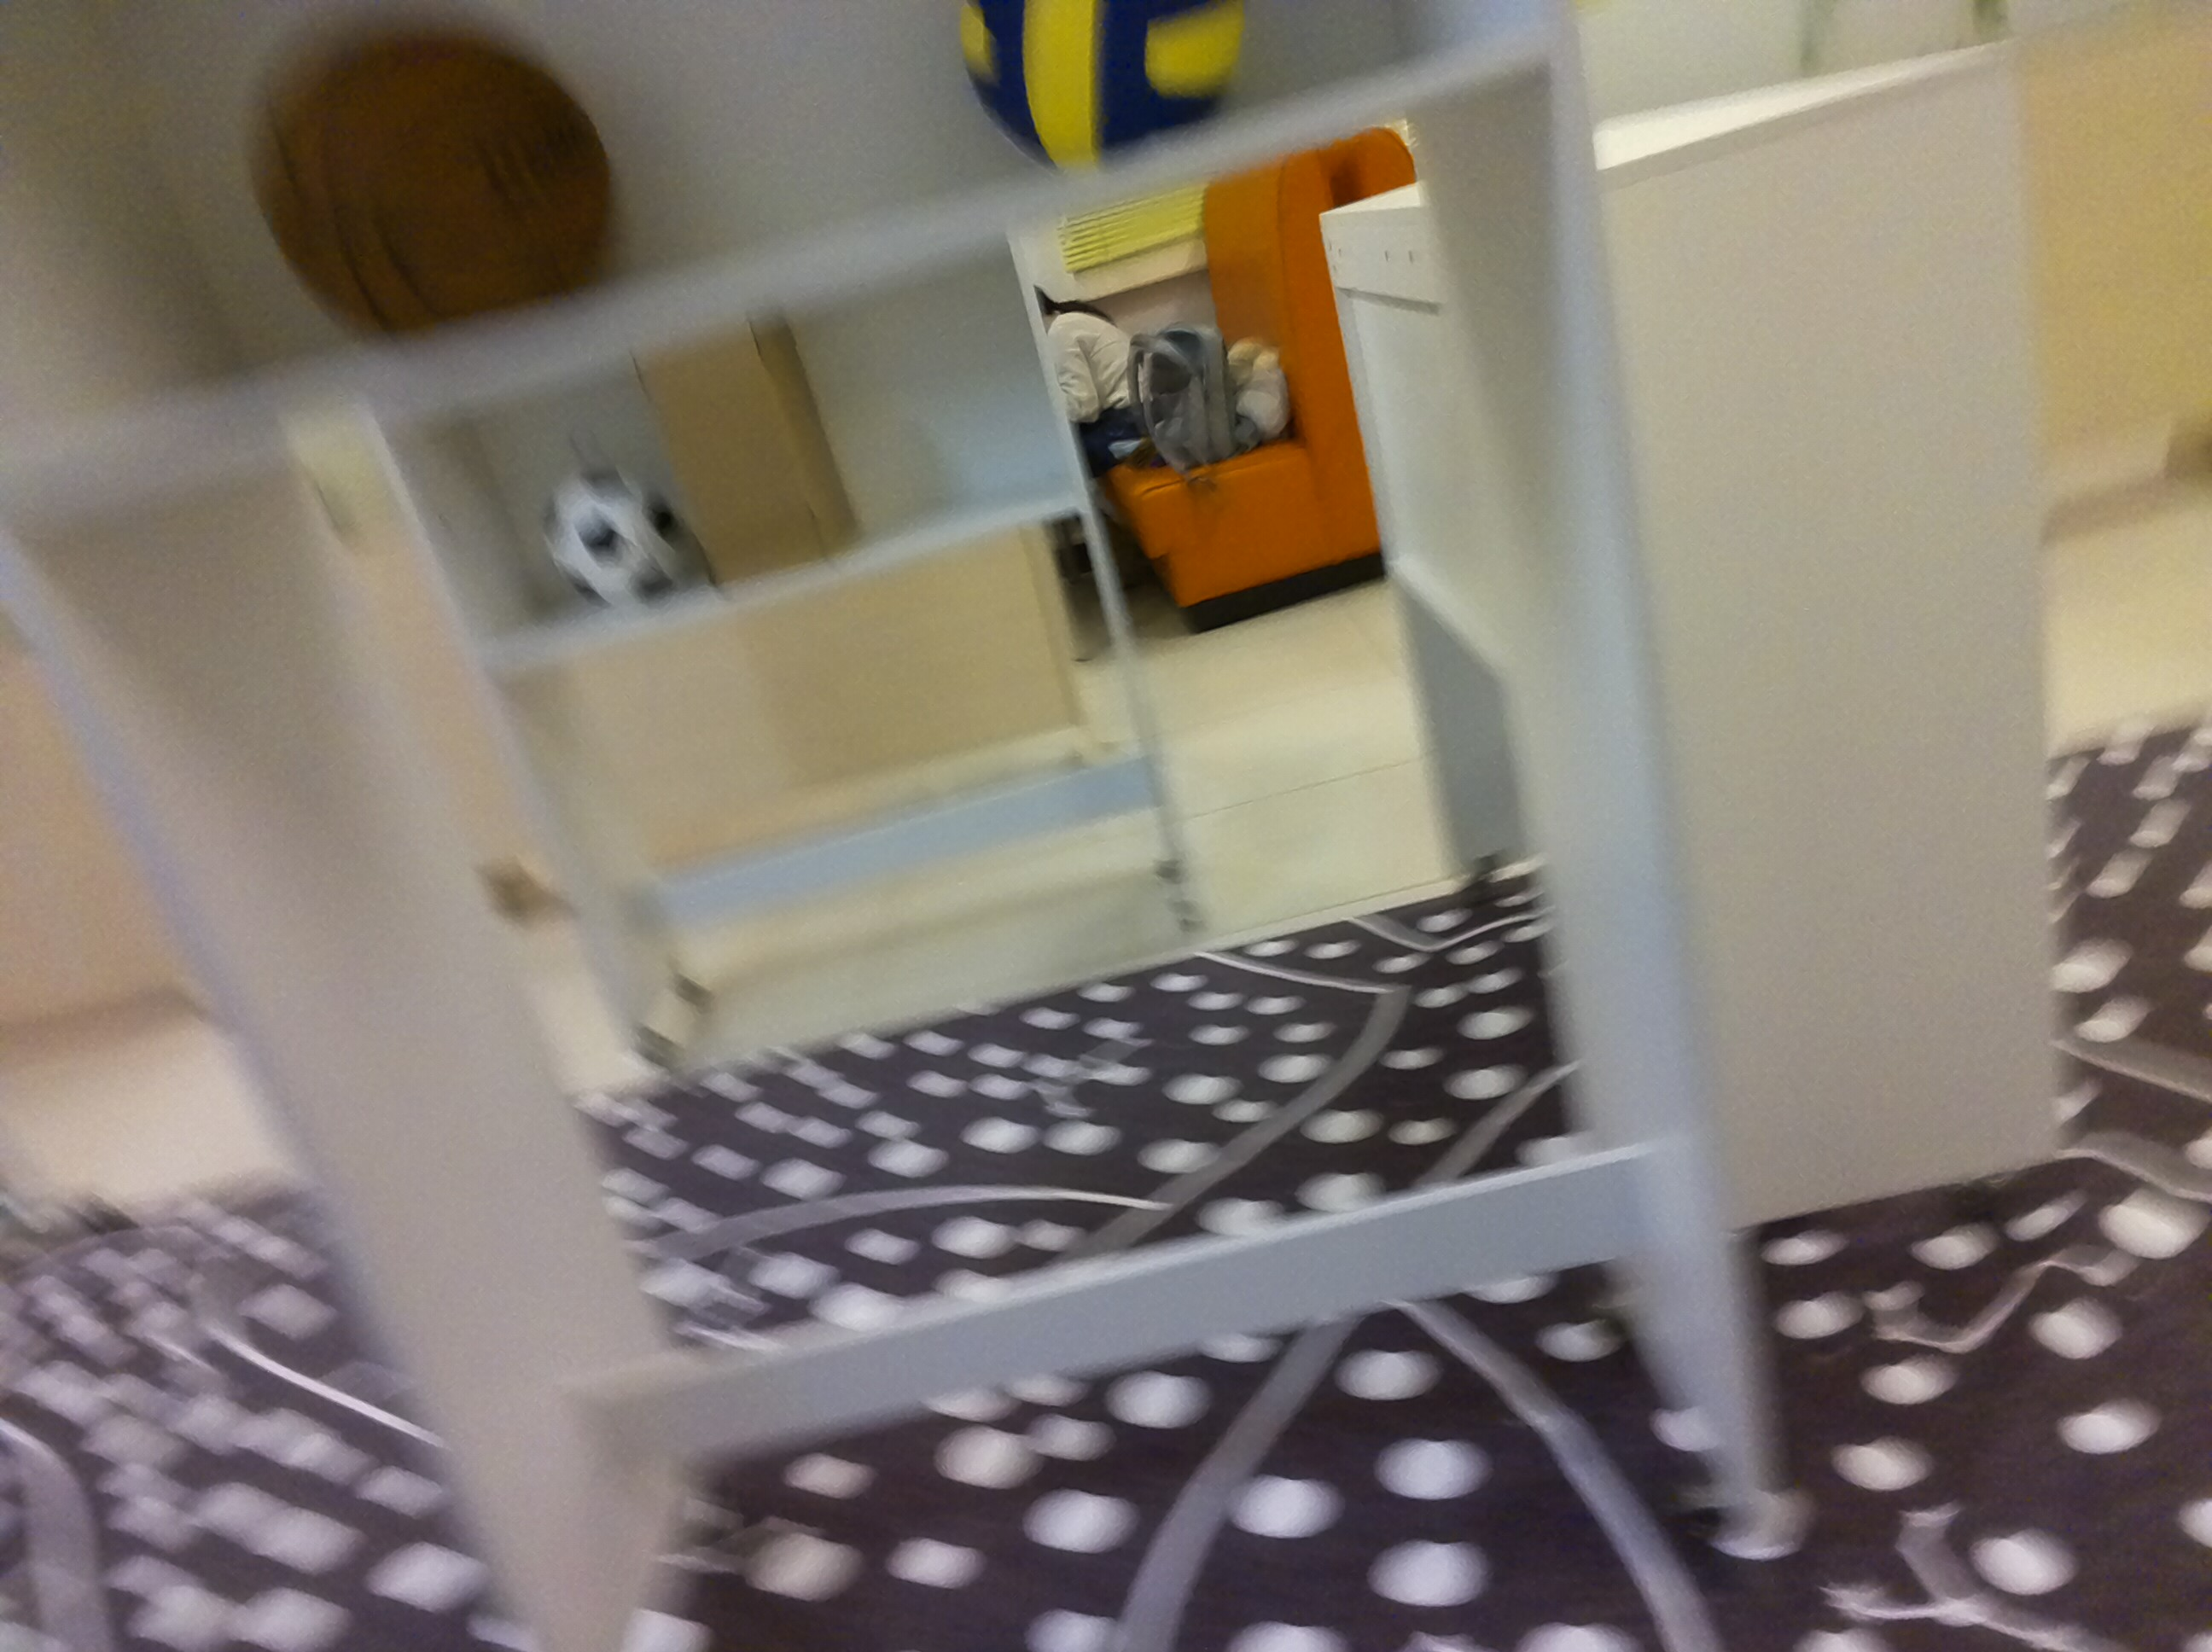basketball: (231, 23, 614, 345)
football: (540, 453, 685, 609)
